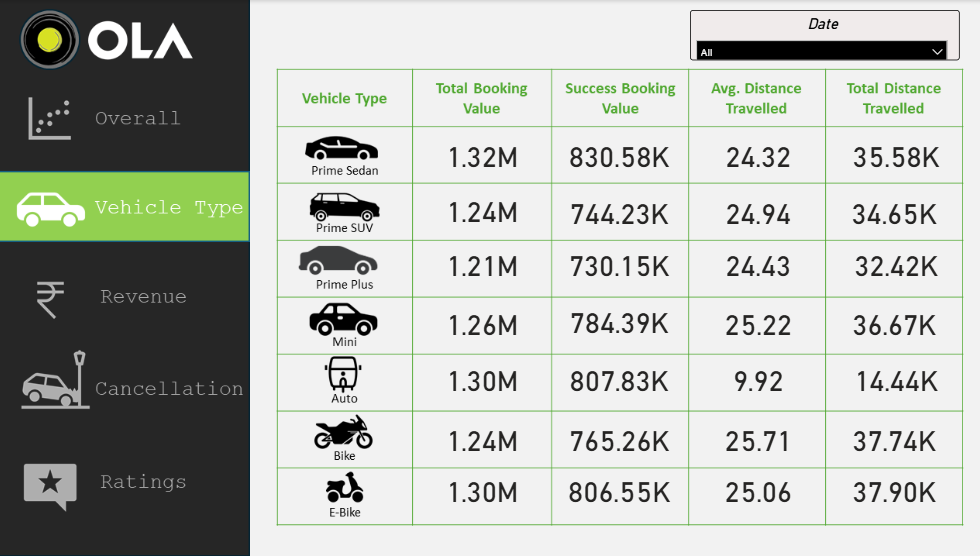

Layout of this report page (visuals, bound fields, positions):
{"tool":"powerbi","page":{"name":"Vehicle Type","canvas":[1280,720],"ordinal":1},"visuals":[{"type":"actionButton","box":[0,340.2,324.6,92.1],"z":0},{"type":"actionButton","box":[0,103.5,324.6,92.1],"z":1000},{"type":"actionButton","box":[0,585.4,324.6,92.1],"z":2000},{"type":"actionButton","box":[0,442.2,324.6,92.1],"z":3000},{"type":"card","fields":{"Values":["Sum(Cleaning_Bookings-20000-Rows.Booking_Value)"]},"box":[540.5,169.1,165.8,59.7],"z":4000},{"type":"card","fields":{"Values":["Sum(Cleaning_Bookings-20000-Rows.Booking_Value)"]},"box":[540.5,310.1,165.8,59.7],"z":5000},{"type":"card","fields":{"Values":["Sum(Cleaning_Bookings-20000-Rows.Booking_Value)"]},"box":[540.5,386.3,165.8,59.7],"z":6000},{"type":"card","fields":{"Values":["Sum(Cleaning_Bookings-20000-Rows.Booking_Value)"]},"box":[540.5,457.6,165.8,59.7],"z":7000},{"type":"card","fields":{"Values":["Sum(Cleaning_Bookings-20000-Rows.Booking_Value)"]},"box":[540.5,535.5,165.8,59.7],"z":8000},{"type":"card","fields":{"Values":["Sum(Cleaning_Bookings-20000-Rows.Booking_Value)"]},"box":[540.5,601.9,165.8,59.7],"z":9000},{"type":"card","fields":{"Values":["Sum(Cleaning_Bookings-20000-Rows.Booking_Value)"]},"box":[540.5,242.1,165.8,56.4],"z":10000},{"type":"card","fields":{"Values":["Sum(Cleaning_Bookings-20000-Rows.Booking_Value)"]},"box":[717.9,169.1,165.8,59.7],"z":11000},{"type":"card","fields":{"Values":["Sum(Cleaning_Bookings-20000-Rows.Booking_Value)"]},"box":[717.9,242.1,165.8,59.7],"z":12000},{"type":"card","fields":{"Values":["Sum(Cleaning_Bookings-20000-Rows.Booking_Value)"]},"box":[717.9,310.1,165.8,59.7],"z":13000},{"type":"card","fields":{"Values":["Sum(Cleaning_Bookings-20000-Rows.Booking_Value)"]},"box":[717.9,383,165.8,59.7],"z":14000},{"type":"card","fields":{"Values":["Sum(Cleaning_Bookings-20000-Rows.Booking_Value)"]},"box":[717.9,457.6,165.8,59.7],"z":15000},{"type":"card","fields":{"Values":["Sum(Cleaning_Bookings-20000-Rows.Booking_Value)"]},"box":[717.9,535.5,165.8,59.7],"z":16000},{"type":"card","fields":{"Values":["Sum(Cleaning_Bookings-20000-Rows.Booking_Value)"]},"box":[717.9,601.9,165.8,59.7],"z":17000},{"type":"card","fields":{"Values":["Avg(Cleaning_Bookings-20000-Rows.Ride_Distance)"]},"box":[897,169.1,165.8,59.7],"z":18000},{"type":"card","fields":{"Values":["Avg(Cleaning_Bookings-20000-Rows.Ride_Distance)"]},"box":[897,242.1,165.8,59.7],"z":19000},{"type":"card","fields":{"Values":["Avg(Cleaning_Bookings-20000-Rows.Ride_Distance)"]},"box":[897,310.1,165.8,59.7],"z":20000},{"type":"card","fields":{"Values":["Avg(Cleaning_Bookings-20000-Rows.Ride_Distance)"]},"box":[897,386.3,165.8,59.7],"z":21000},{"type":"card","fields":{"Values":["Avg(Cleaning_Bookings-20000-Rows.Ride_Distance)"]},"box":[897,457.6,165.8,59.7],"z":22000},{"type":"card","fields":{"Values":["Avg(Cleaning_Bookings-20000-Rows.Ride_Distance)"]},"box":[897,535.5,165.8,59.7],"z":23000},{"type":"card","fields":{"Values":["Avg(Cleaning_Bookings-20000-Rows.Ride_Distance)"]},"box":[897,601.9,165.8,59.7],"z":24000},{"type":"card","fields":{"Values":["Sum(Cleaning_Bookings-20000-Rows.Ride_Distance)"]},"box":[1074.4,169.1,165.8,59.7],"z":25000},{"type":"card","fields":{"Values":["Sum(Cleaning_Bookings-20000-Rows.Ride_Distance)"]},"box":[1072.7,242.1,165.8,59.7],"z":26000},{"type":"card","fields":{"Values":["Sum(Cleaning_Bookings-20000-Rows.Ride_Distance)"]},"box":[1074.4,310.1,165.8,59.7],"z":27000},{"type":"card","fields":{"Values":["Sum(Cleaning_Bookings-20000-Rows.Ride_Distance)"]},"box":[1072.7,386.3,165.8,59.7],"z":28000},{"type":"card","fields":{"Values":["Sum(Cleaning_Bookings-20000-Rows.Ride_Distance)"]},"box":[1074.4,457.6,165.8,59.7],"z":29000},{"type":"card","fields":{"Values":["Sum(Cleaning_Bookings-20000-Rows.Ride_Distance)"]},"box":[1072.7,535.5,165.8,59.7],"z":30000},{"type":"card","fields":{"Values":["Sum(Cleaning_Bookings-20000-Rows.Ride_Distance)"]},"box":[1072.7,601.9,165.8,59.7],"z":31000},{"type":"slicer","title":"Date","fields":{"Values":["Cleaning_Bookings-20000-Rows.Date.Variation.Date Hierarchy.Year","Cleaning_Bookings-20000-Rows.Date.Variation.Date Hierarchy.Quarter","Cleaning_Bookings-20000-Rows.Date.Variation.Date Hierarchy.Month","Cleaning_Bookings-20000-Rows.Date.Variation.Date Hierarchy.Day"]},"box":[892,13.3,348.2,64.7],"z":32000}]}

Visuals, with their boxes on the page's 1280x720 design canvas (x1, y1, x2, y2). These are canvas units, not pixel positions in the 980x557 screenshot, which may show the page scaled, cropped or inside an application window:
actionButton: <bbox>0, 340, 325, 432</bbox>
actionButton: <bbox>0, 104, 325, 196</bbox>
actionButton: <bbox>0, 585, 325, 678</bbox>
actionButton: <bbox>0, 442, 325, 534</bbox>
card - Sum(Cleaning_Bookings-20000-Rows.Booking_Value): <bbox>540, 169, 706, 229</bbox>
card - Sum(Cleaning_Bookings-20000-Rows.Booking_Value): <bbox>540, 310, 706, 370</bbox>
card - Sum(Cleaning_Bookings-20000-Rows.Booking_Value): <bbox>540, 386, 706, 446</bbox>
card - Sum(Cleaning_Bookings-20000-Rows.Booking_Value): <bbox>540, 458, 706, 517</bbox>
card - Sum(Cleaning_Bookings-20000-Rows.Booking_Value): <bbox>540, 536, 706, 595</bbox>
card - Sum(Cleaning_Bookings-20000-Rows.Booking_Value): <bbox>540, 602, 706, 662</bbox>
card - Sum(Cleaning_Bookings-20000-Rows.Booking_Value): <bbox>540, 242, 706, 298</bbox>
card - Sum(Cleaning_Bookings-20000-Rows.Booking_Value): <bbox>718, 169, 884, 229</bbox>
card - Sum(Cleaning_Bookings-20000-Rows.Booking_Value): <bbox>718, 242, 884, 302</bbox>
card - Sum(Cleaning_Bookings-20000-Rows.Booking_Value): <bbox>718, 310, 884, 370</bbox>
card - Sum(Cleaning_Bookings-20000-Rows.Booking_Value): <bbox>718, 383, 884, 443</bbox>
card - Sum(Cleaning_Bookings-20000-Rows.Booking_Value): <bbox>718, 458, 884, 517</bbox>
card - Sum(Cleaning_Bookings-20000-Rows.Booking_Value): <bbox>718, 536, 884, 595</bbox>
card - Sum(Cleaning_Bookings-20000-Rows.Booking_Value): <bbox>718, 602, 884, 662</bbox>
card - Avg(Cleaning_Bookings-20000-Rows.Ride_Distance): <bbox>897, 169, 1063, 229</bbox>
card - Avg(Cleaning_Bookings-20000-Rows.Ride_Distance): <bbox>897, 242, 1063, 302</bbox>
card - Avg(Cleaning_Bookings-20000-Rows.Ride_Distance): <bbox>897, 310, 1063, 370</bbox>
card - Avg(Cleaning_Bookings-20000-Rows.Ride_Distance): <bbox>897, 386, 1063, 446</bbox>
card - Avg(Cleaning_Bookings-20000-Rows.Ride_Distance): <bbox>897, 458, 1063, 517</bbox>
card - Avg(Cleaning_Bookings-20000-Rows.Ride_Distance): <bbox>897, 536, 1063, 595</bbox>
card - Avg(Cleaning_Bookings-20000-Rows.Ride_Distance): <bbox>897, 602, 1063, 662</bbox>
card - Sum(Cleaning_Bookings-20000-Rows.Ride_Distance): <bbox>1074, 169, 1240, 229</bbox>
card - Sum(Cleaning_Bookings-20000-Rows.Ride_Distance): <bbox>1073, 242, 1238, 302</bbox>
card - Sum(Cleaning_Bookings-20000-Rows.Ride_Distance): <bbox>1074, 310, 1240, 370</bbox>
card - Sum(Cleaning_Bookings-20000-Rows.Ride_Distance): <bbox>1073, 386, 1238, 446</bbox>
card - Sum(Cleaning_Bookings-20000-Rows.Ride_Distance): <bbox>1074, 458, 1240, 517</bbox>
card - Sum(Cleaning_Bookings-20000-Rows.Ride_Distance): <bbox>1073, 536, 1238, 595</bbox>
card - Sum(Cleaning_Bookings-20000-Rows.Ride_Distance): <bbox>1073, 602, 1238, 662</bbox>
"Date" slicer: <bbox>892, 13, 1240, 78</bbox>
